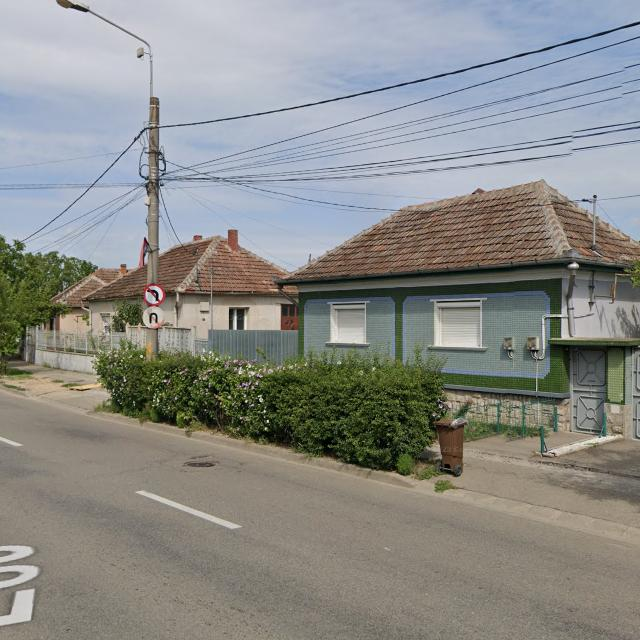forb_left: (142, 284, 165, 306)
forb_u_turn: (143, 306, 164, 328)
